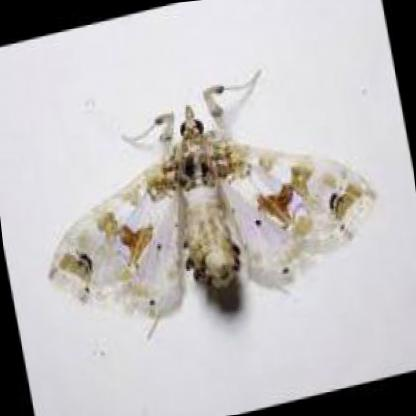leucinodes: (49, 108, 377, 318)
